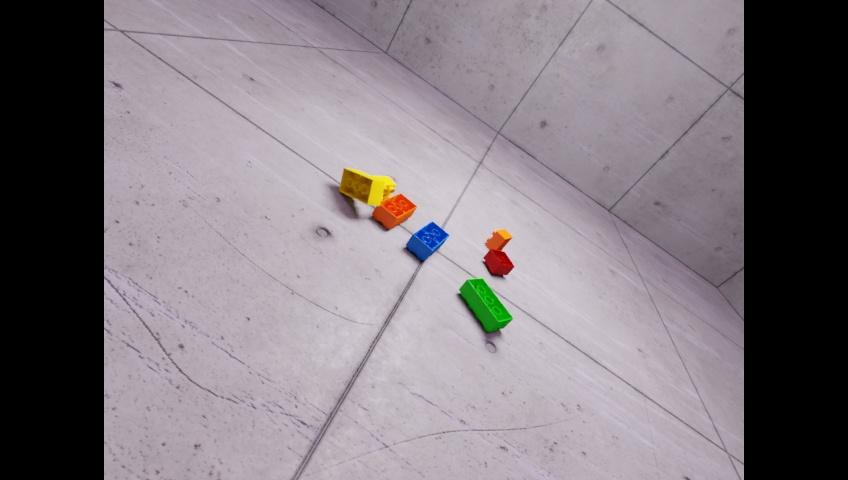2x2_orange: (486, 229, 512, 251)
2x2_red: (484, 249, 514, 276)
2x2_yellow: (372, 175, 395, 201)
4x2_blue: (405, 220, 448, 260)
4x2_green: (459, 279, 513, 333)
4x2_orange: (372, 194, 416, 230)
4x2_yellow: (339, 167, 384, 205)
